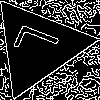L: (12, 21, 70, 66)
